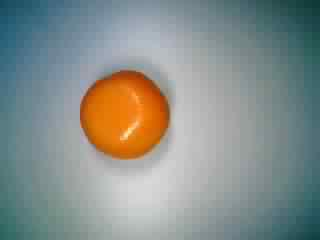orange: (73, 68, 174, 165)
